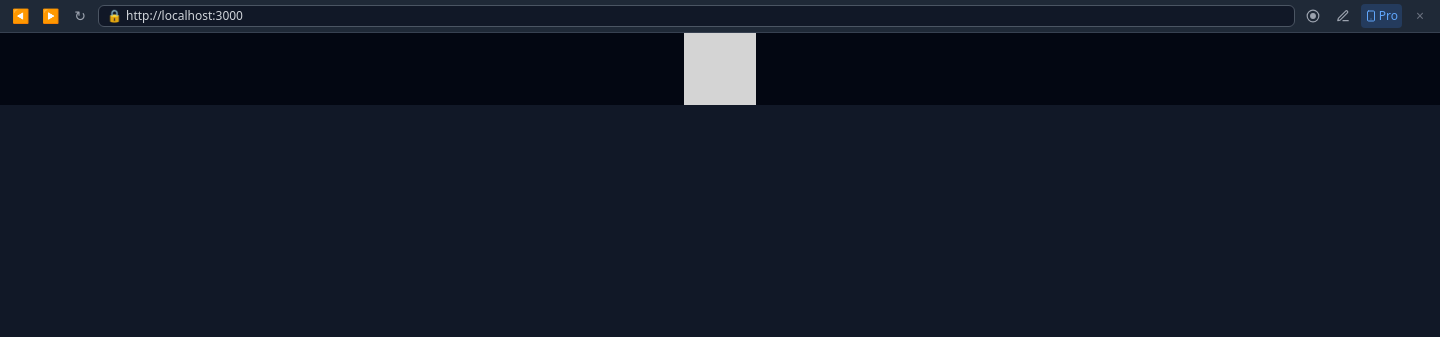
StreamPreview device preset fix › renders the device selector dropdown with phone/tablet/desktop presets
Click the button titled "Device viewport": (1381, 16) [1361,4,1402,28]
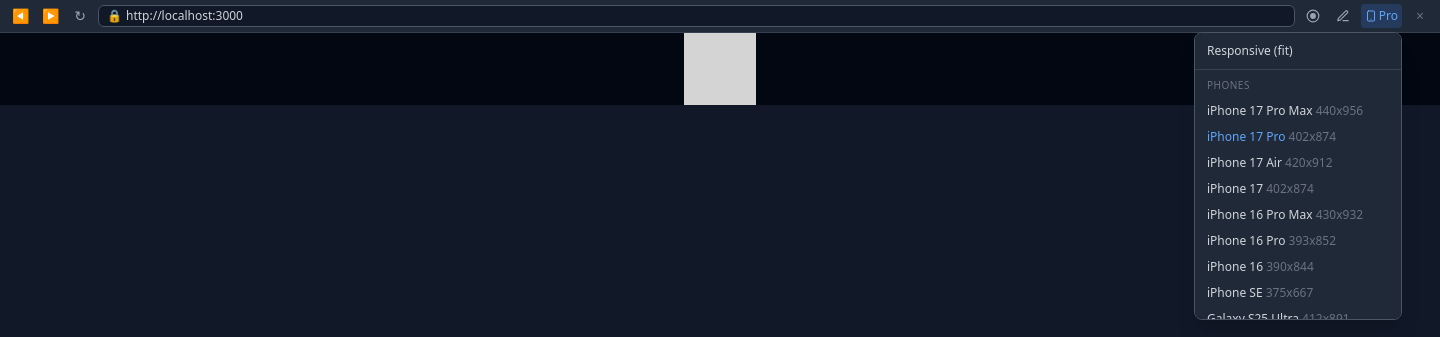
Expected: the text "Phones" is shown, [1207,78,1250,92]
Expected: the button "Responsive (fit)" is shown, [1195,37,1401,65]
